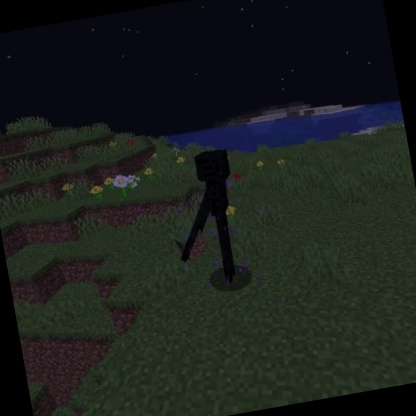enderman: (161, 146, 252, 294)
